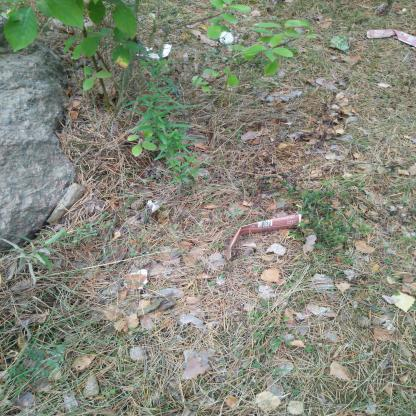karton: (212, 114, 260, 192), (29, 0, 47, 50)
